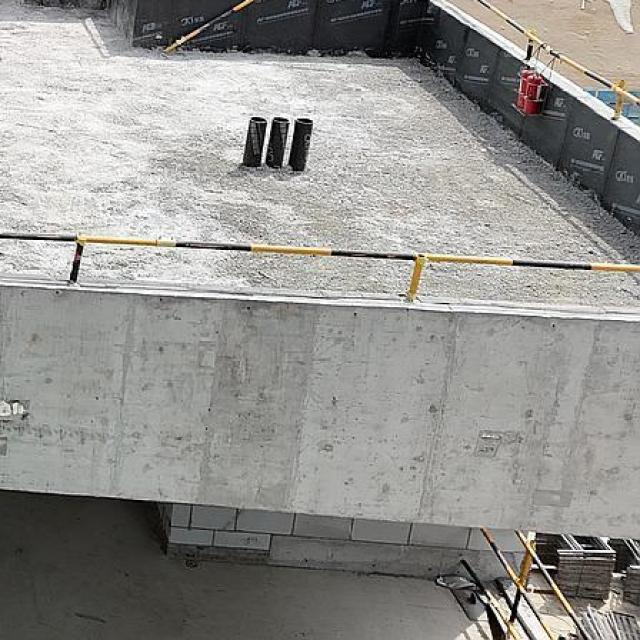edge_guardrail: (0, 229, 639, 304), (477, 0, 640, 126), (460, 527, 594, 640)
